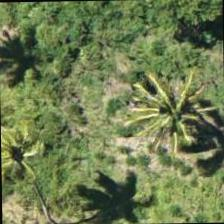Kelapa_Sawit: (113, 61, 205, 153), (0, 105, 51, 197)
